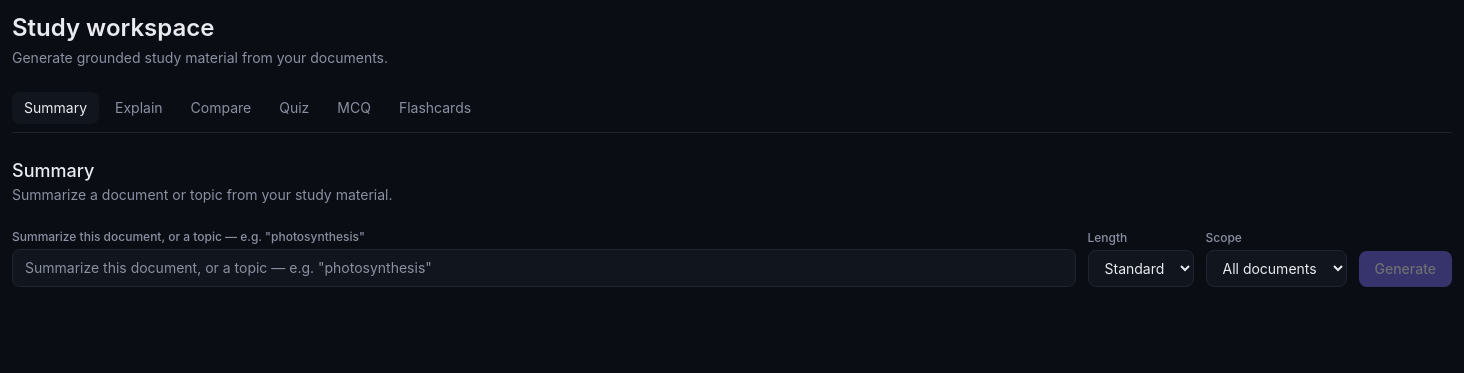
Test: switching study modes navigates between tabs
Expected: the heading "Summary" is shown, [12,160,94,181]
Click the link "Compare" at (221, 108), box [191,99,251,116]
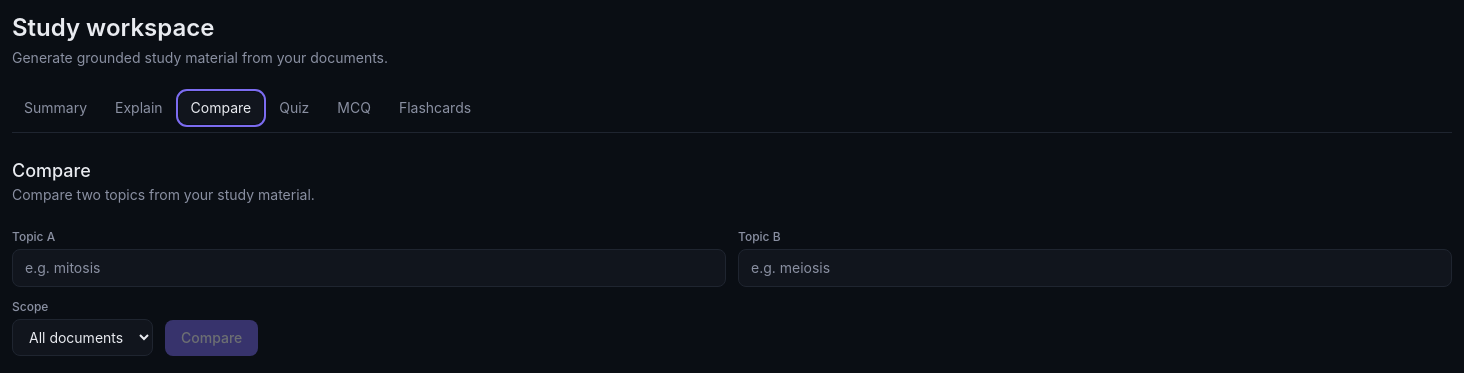
Result: the heading "Compare" is shown at [12,160,91,181]
